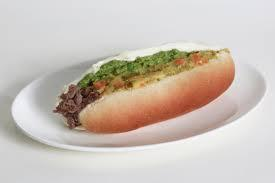Completos: (59, 34, 232, 140)
